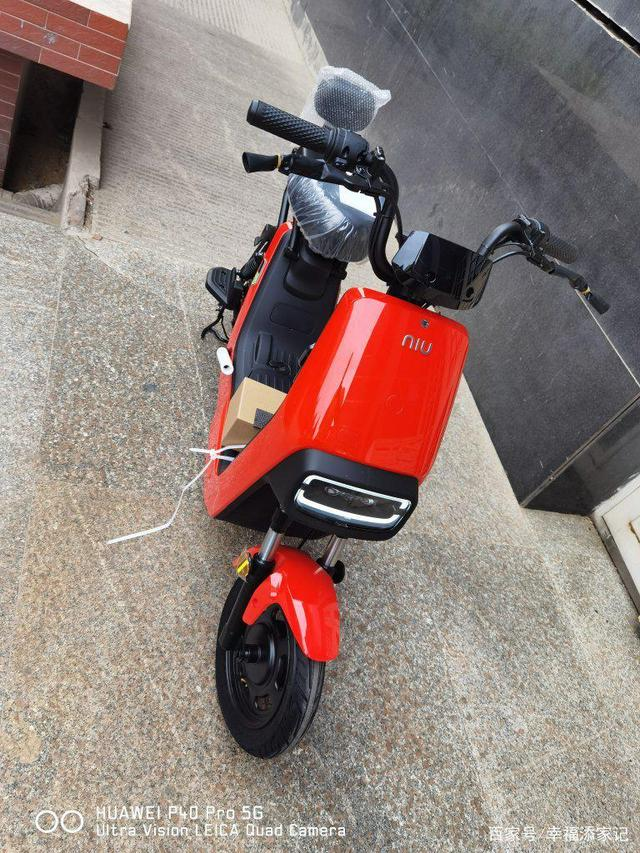电动车: (167, 53, 609, 770)
